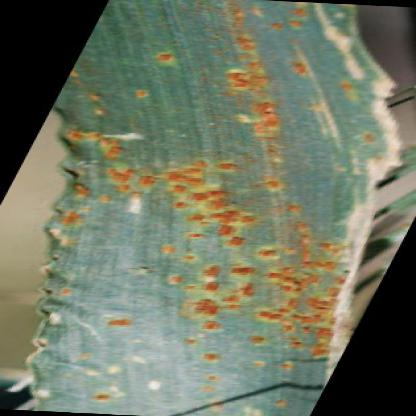Wheat Brown-rust: (126, 7, 337, 382), (66, 89, 112, 295), (71, 384, 293, 407)
